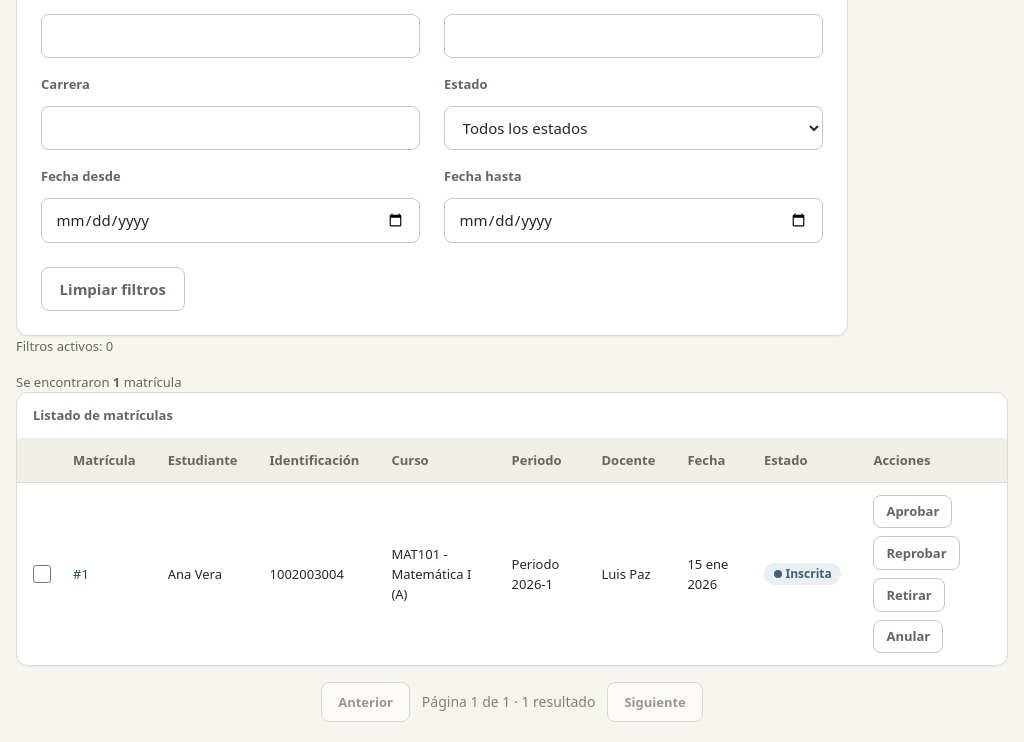
ListarMatriculasComponent › muestra la barra contextual con Ver y las acciones de estado al seleccionar una inscrita
The image size is (1024, 742).
(page scrolled)
Click the cell "#1". click: [104, 574]
box: top-left (57, 482), bottom-right (152, 665)
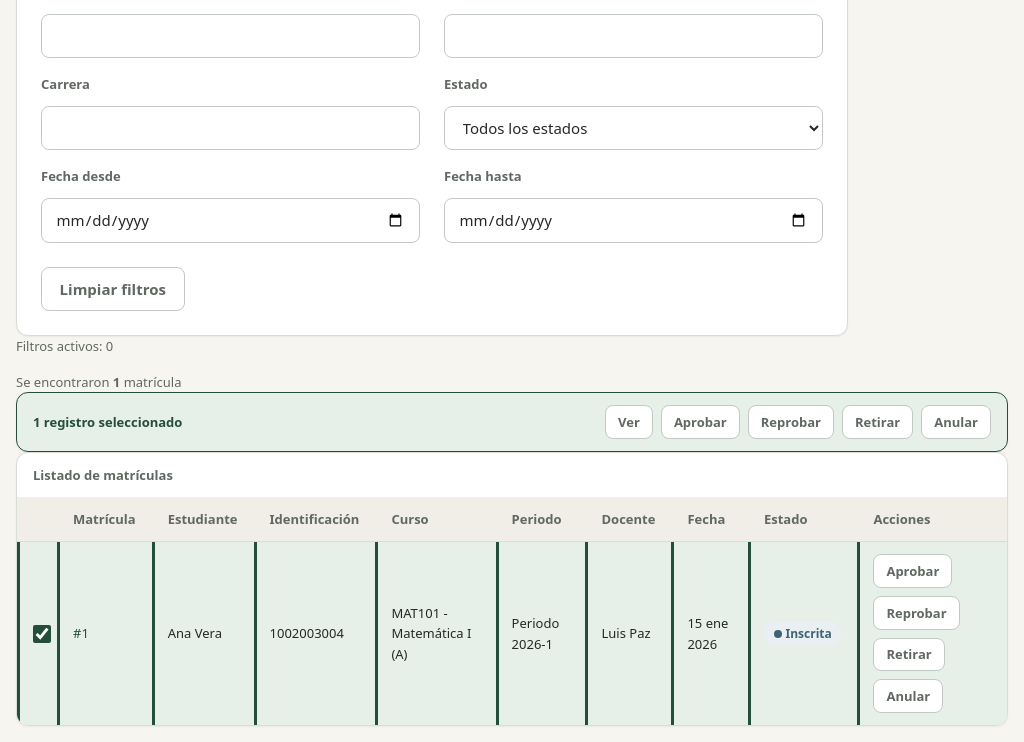
Now the text "1 registro seleccionado" is shown, box top-left (33, 412), bottom-right (182, 432)
Now the button "Ver" is shown, box top-left (605, 405), bottom-right (653, 439)
Now the button "Aprobar" in the row of "1 registro seleccionado" is shown, box top-left (661, 405), bottom-right (740, 439)
